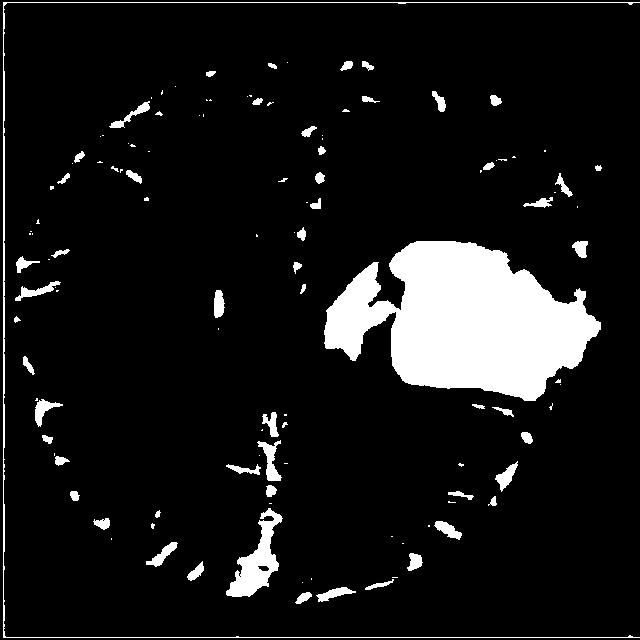Brain-Tumor: (312, 214, 614, 428)
